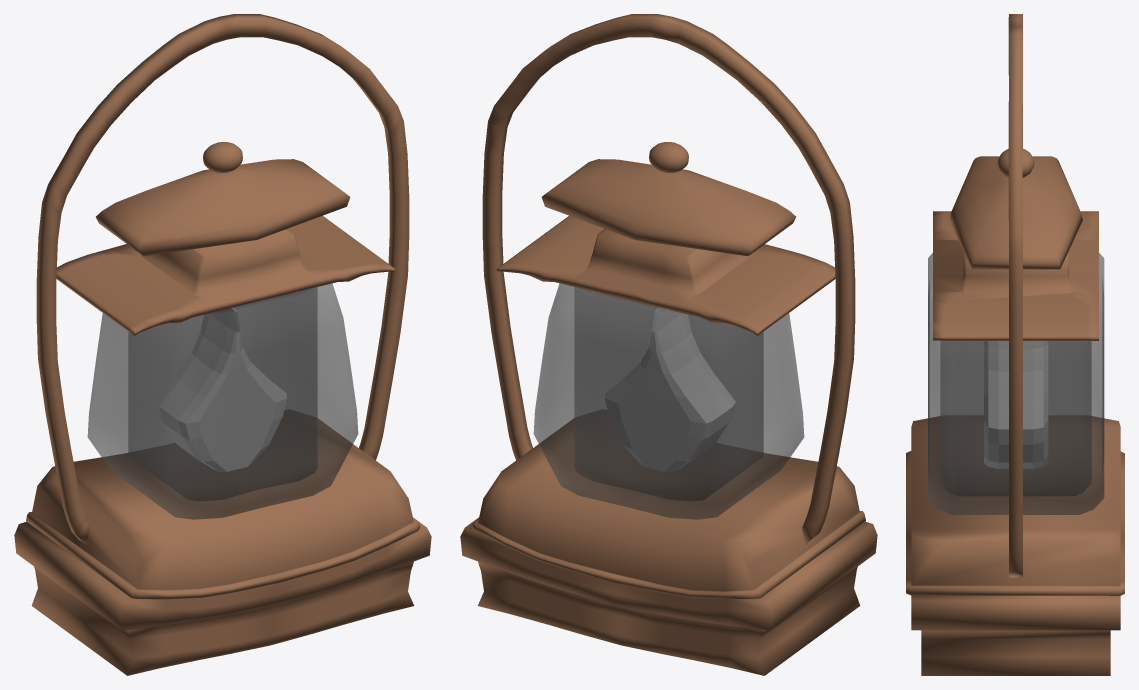
Rendered from LanternJoined.fbx.
The picture shows the model from 3 angles, left to right: view 1: azimuth 30°, elevation 25°; view 2: azimuth 150°, elevation 25°; view 3: azimuth 270°, elevation 25°; orthographic projection.
Visible parts, largest first — view 1: LanternHolder, LanternGlass, FlameLightSoucr; view 2: LanternHolder, LanternGlass, FlameLightSoucr; view 3: LanternHolder, LanternGlass, FlameLightSoucr.
Boxes of the visible parts, x1,y1,x2,y2 form: LanternHolder: (14, 14, 431, 675); LanternGlass: (87, 283, 358, 519); FlameLightSoucr: (156, 308, 286, 471); LanternHolder: (460, 14, 877, 675); LanternGlass: (533, 283, 804, 519); FlameLightSoucr: (605, 308, 735, 471); LanternHolder: (906, 14, 1124, 675); LanternGlass: (928, 253, 1104, 514); FlameLightSoucr: (984, 341, 1047, 468).
Size of the model in its own units: 34.55 by 53.37 by 18.12.
